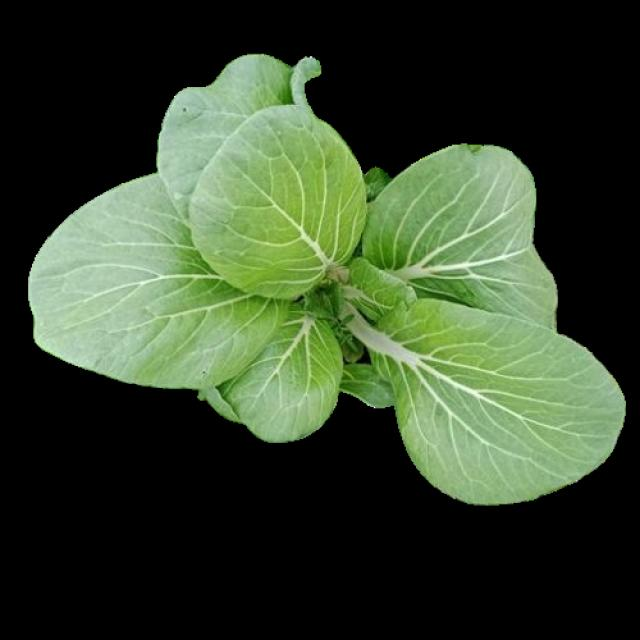healthy: (41, 69, 623, 498)
not-mature: (32, 58, 626, 500)
